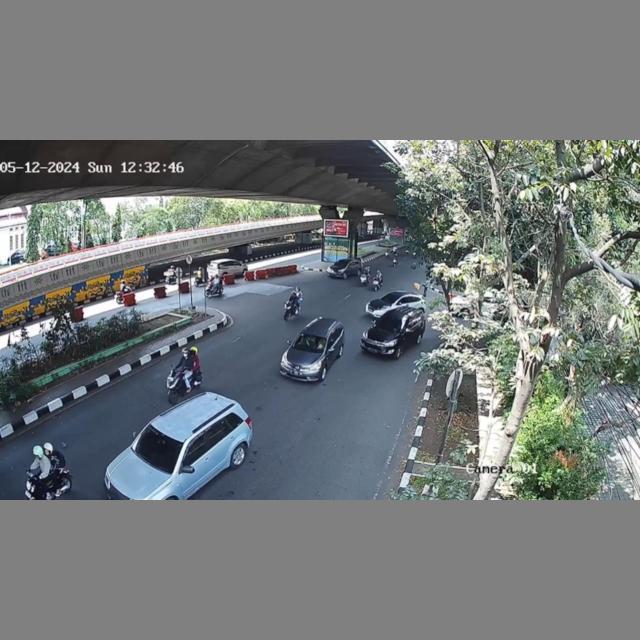windshield: (129, 423, 186, 470), (296, 333, 326, 353)
